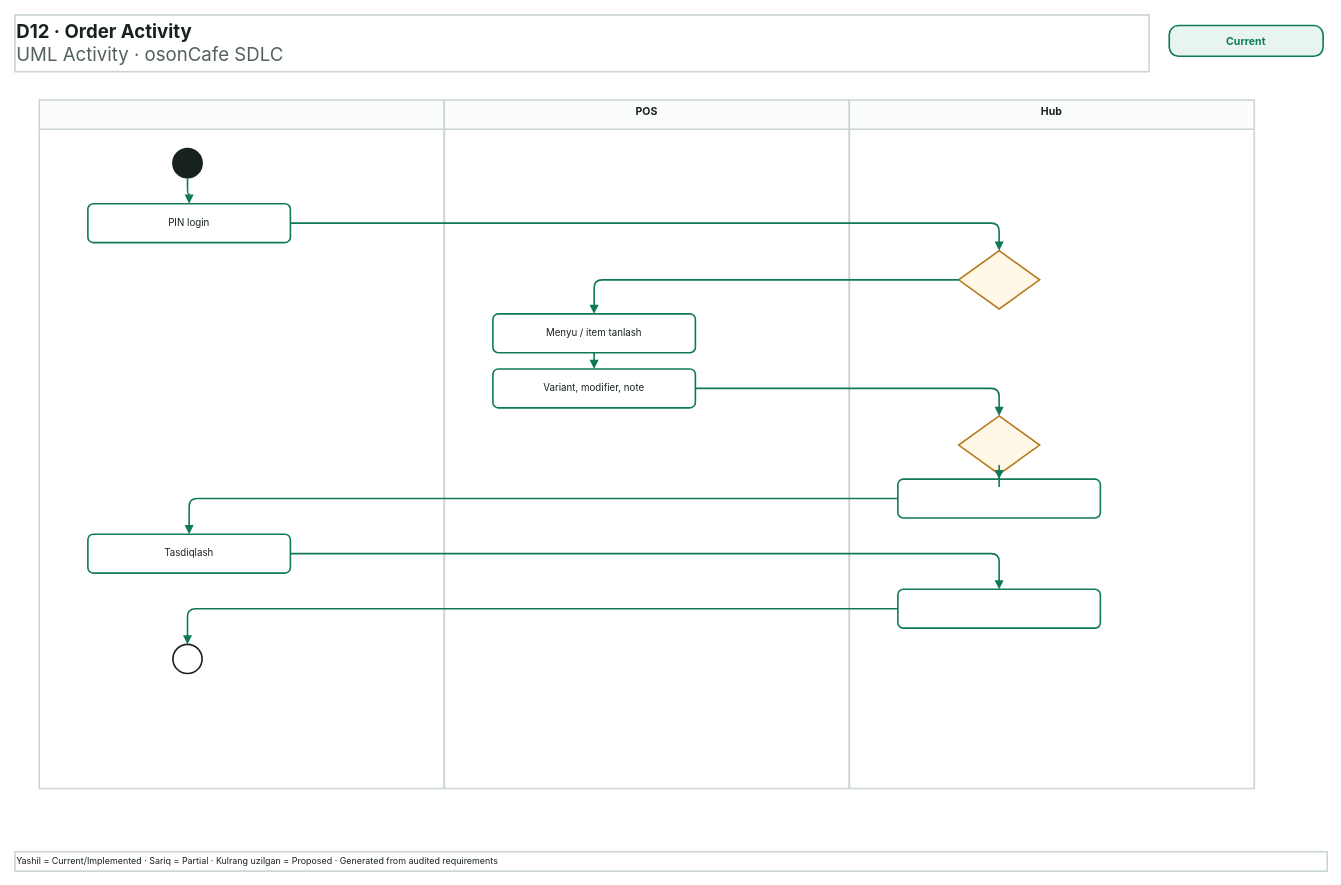
Some shapes in this 1341 by 885 pixel diagram are drawn without their labels. Each missing label, with the box of its shape:
Order yaratish: (897, 588, 1101, 629)
Server total / snapshot: (897, 478, 1101, 518)
Session va aktiv shift: (957, 249, 1040, 309)
Staff: (38, 99, 445, 789)
Stop-list va narx: (957, 415, 1040, 475)
